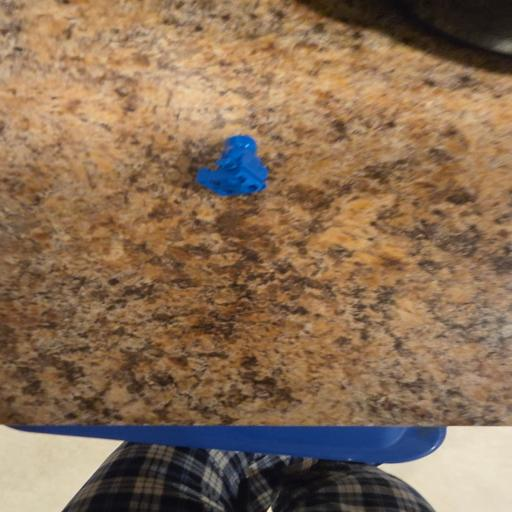Blue: (196, 136, 268, 195)
